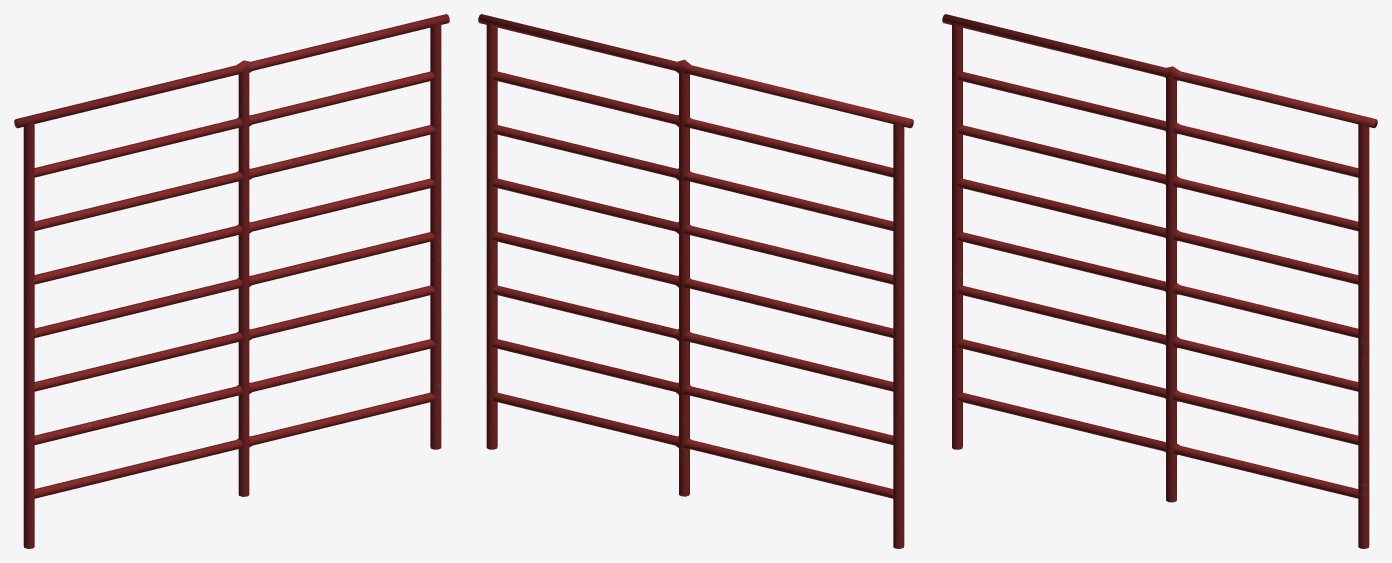
Rendered from ClimbingFrame_1.fbx.
3 renders of one model, left to right at view 1: azimuth 30°, elevation 25°; view 2: azimuth 150°, elevation 25°; view 3: azimuth 330°, elevation 25°, orthographic.
Visible parts, largest first — view 1: ClimbingFrame_1; view 2: ClimbingFrame_1; view 3: ClimbingFrame_1.
Part boxes in pixels (x1,y1,x2,y2): ClimbingFrame_1: [14, 14, 449, 548]; ClimbingFrame_1: [478, 14, 913, 548]; ClimbingFrame_1: [942, 14, 1377, 548].
Size of the model in its own units: 212 by 204 by 5.02.
